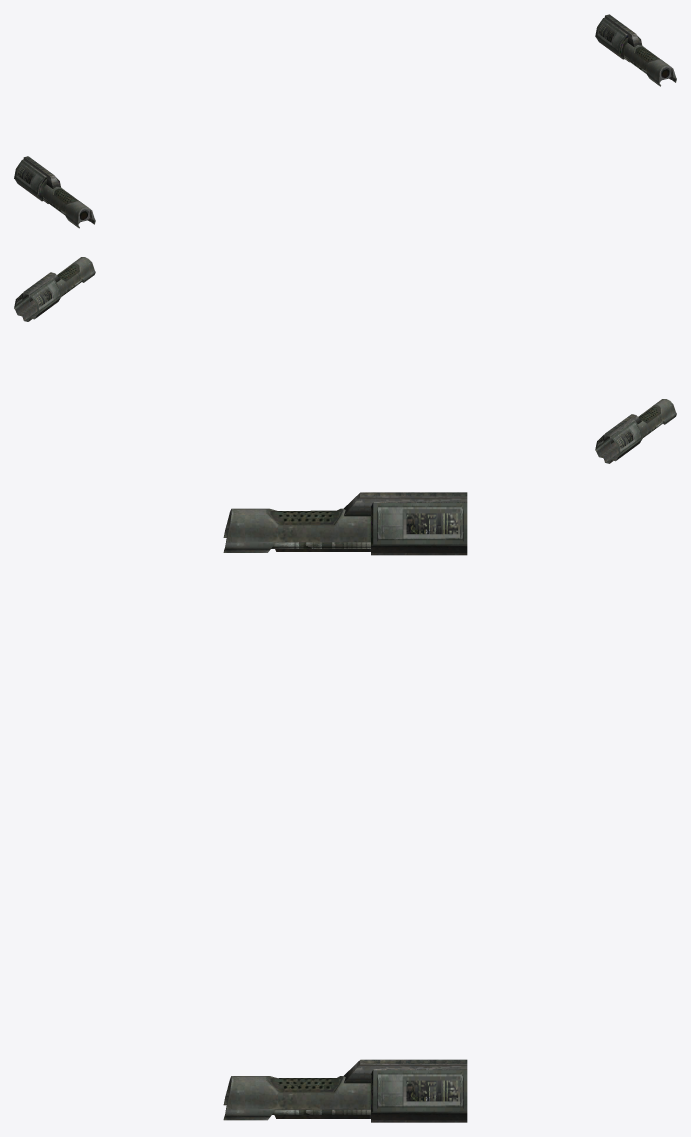
Rendered from black_sun_fighter_light_weapon_s01_l1.fbx.
3 views of the same model, one above another, from view 1: azimuth 30°, elevation 25°; view 2: azimuth 150°, elevation 25°; view 3: azimuth 270°, elevation 25° (orthographic). The views are drawn at different scales.
Parts seen in each view (by area): view 1: mesh_node; view 2: mesh_node; view 3: mesh_node.
Boxes of the visible parts, <box> form: mesh_node: <box>14,14,676,228</box>; mesh_node: <box>14,257,676,463</box>; mesh_node: <box>223,492,467,1122</box>.
Bounding box in the file's own units: 11.71 × 0.5416 × 2.04.
Materials: 1 (1 with a texture image).
